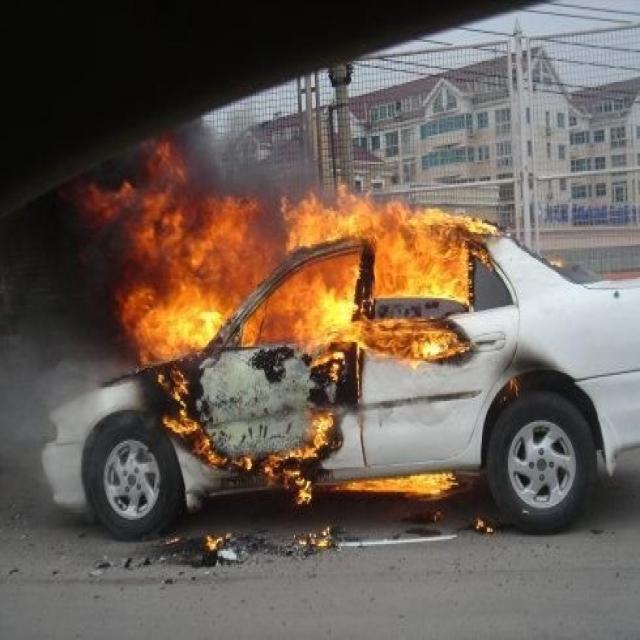Fire: (86, 142, 500, 508), (296, 525, 334, 551), (206, 532, 234, 553), (473, 514, 495, 534)
Smoke: (1, 204, 140, 450), (178, 119, 338, 208)
